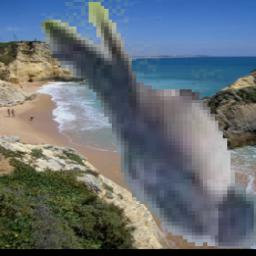Swallow: (42, 0, 256, 248)
